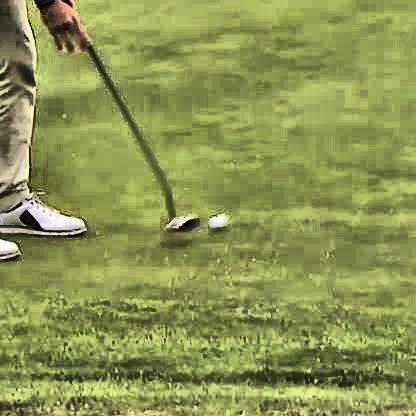golfball: (207, 210, 227, 230)
